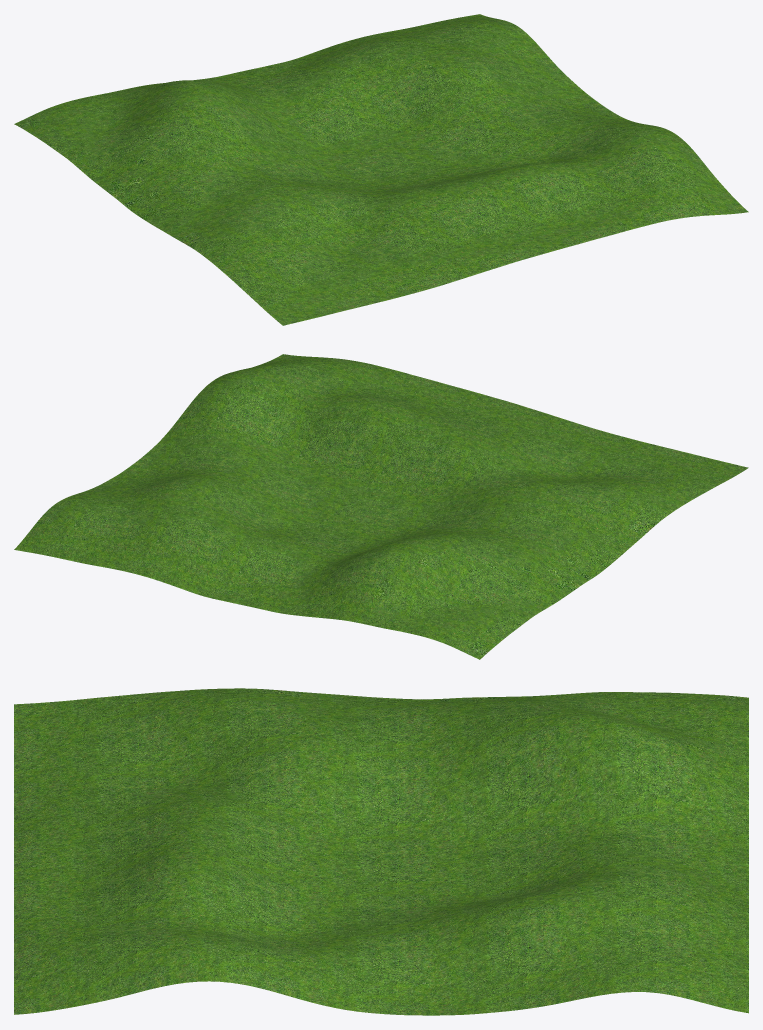
The model's file is map.obj.
3 renders of one model, top to bottom at view 1: azimuth 30°, elevation 25°; view 2: azimuth 150°, elevation 25°; view 3: azimuth 270°, elevation 25°, orthographic. The views are drawn at different scales.
Parts seen in each view (by area): view 1: Plane; view 2: Plane; view 3: Plane.
Boxes of the visible parts, x1,y1,x2,y2 form: Plane: [14, 14, 748, 325]; Plane: [14, 354, 748, 659]; Plane: [14, 688, 748, 1015].
Size of the model in its own units: 1.94 by 0.184 by 1.94.
Materials: 1 (1 with a texture image).
